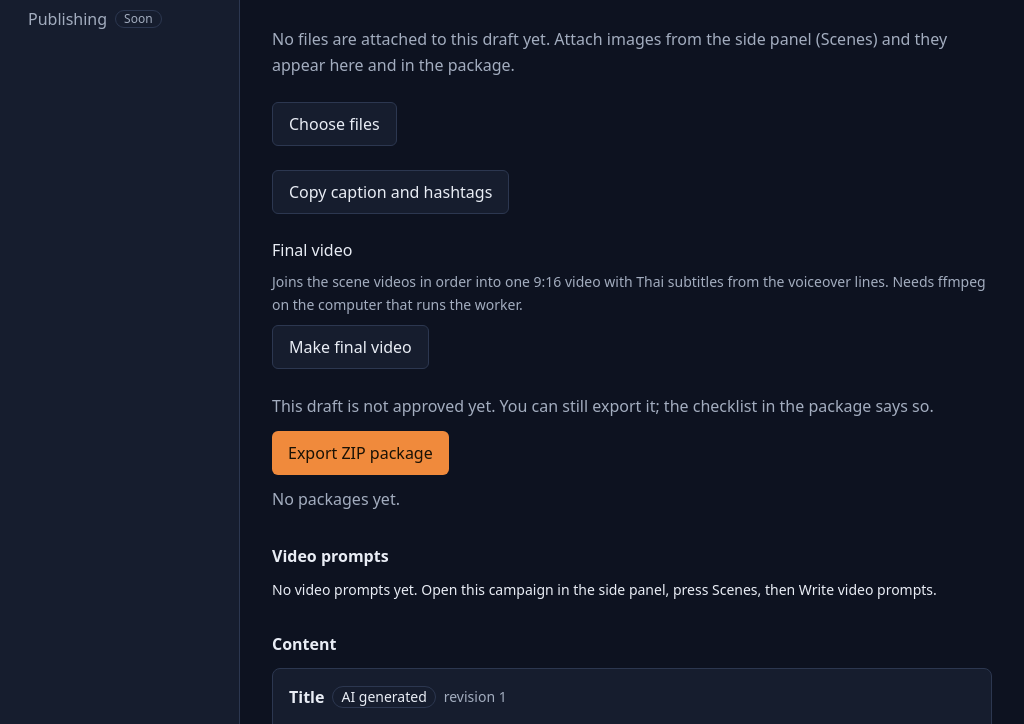
Scenario: Make final video › starts the job once and shows the result with the subtitles to copy
The image size is (1024, 724).
(page scrolled)
Click the button "Make final video". click: (350, 347)
box: [272,325,429,369]
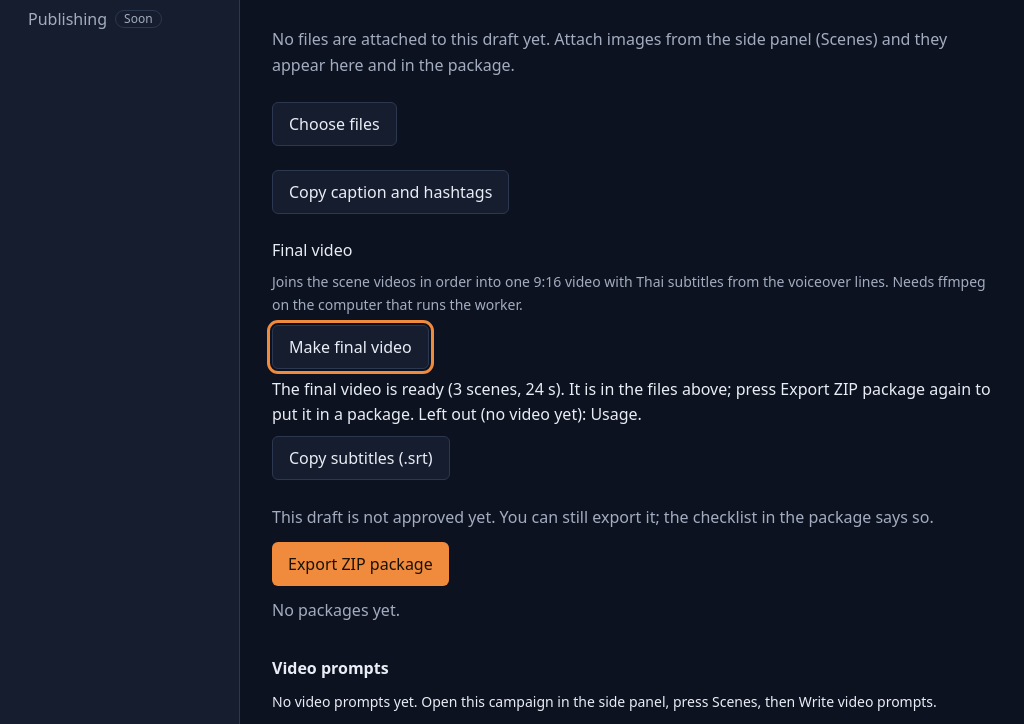
Result: the text "The final video is ready (3 scenes, 24 s)" is shown at [272,378,991,425]
Result: the button "Copy subtitles (.srt)" is shown at [272,436,450,480]
